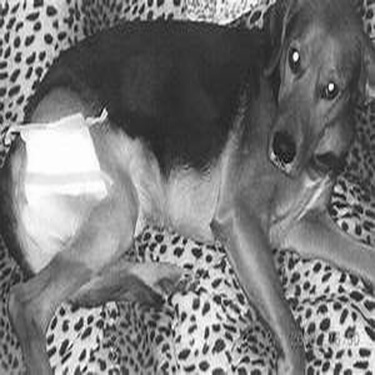dog: (1, 3, 369, 370)
